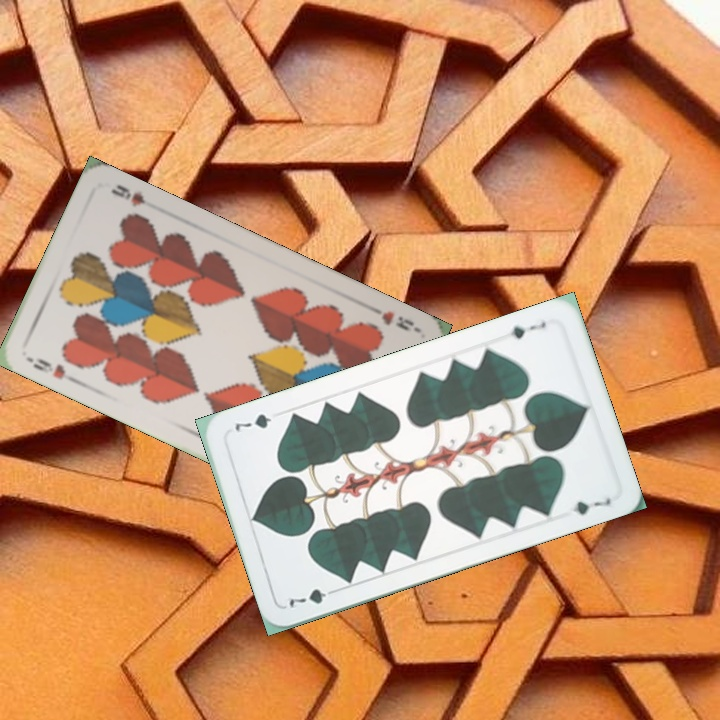G7: (285, 584, 341, 611), (506, 317, 549, 342)
H9: (366, 302, 417, 334), (29, 354, 77, 385)
